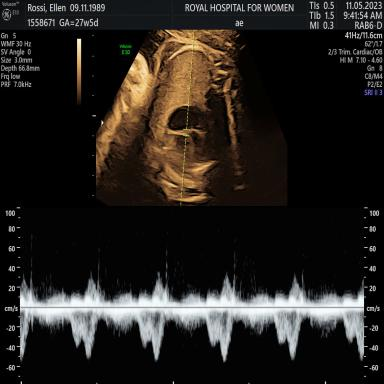Ultrasound-Waves: (25, 217, 363, 384)
